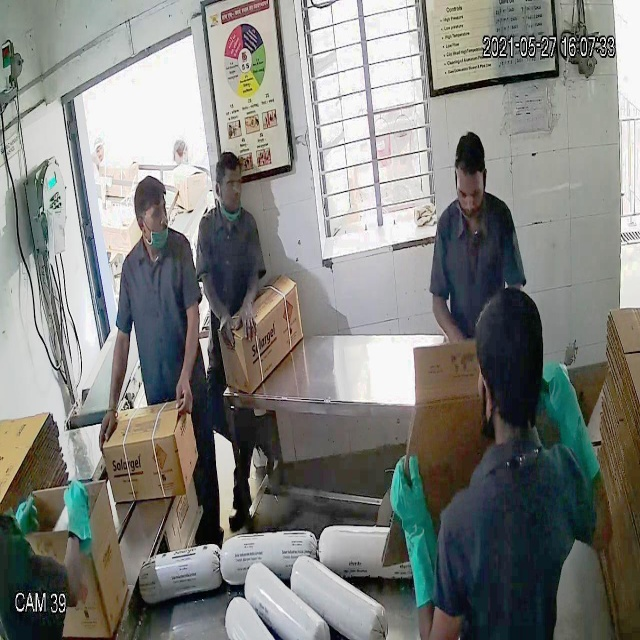Sin_gafas: (129, 198, 170, 235)
